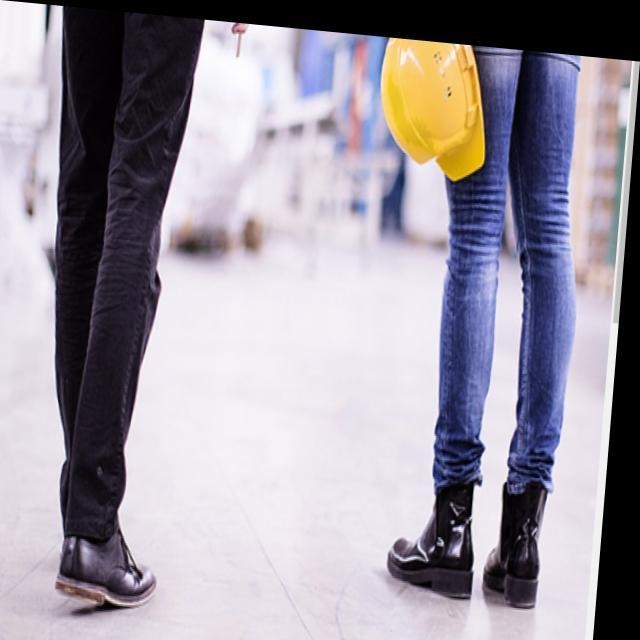shoes: (382, 455, 553, 612)
